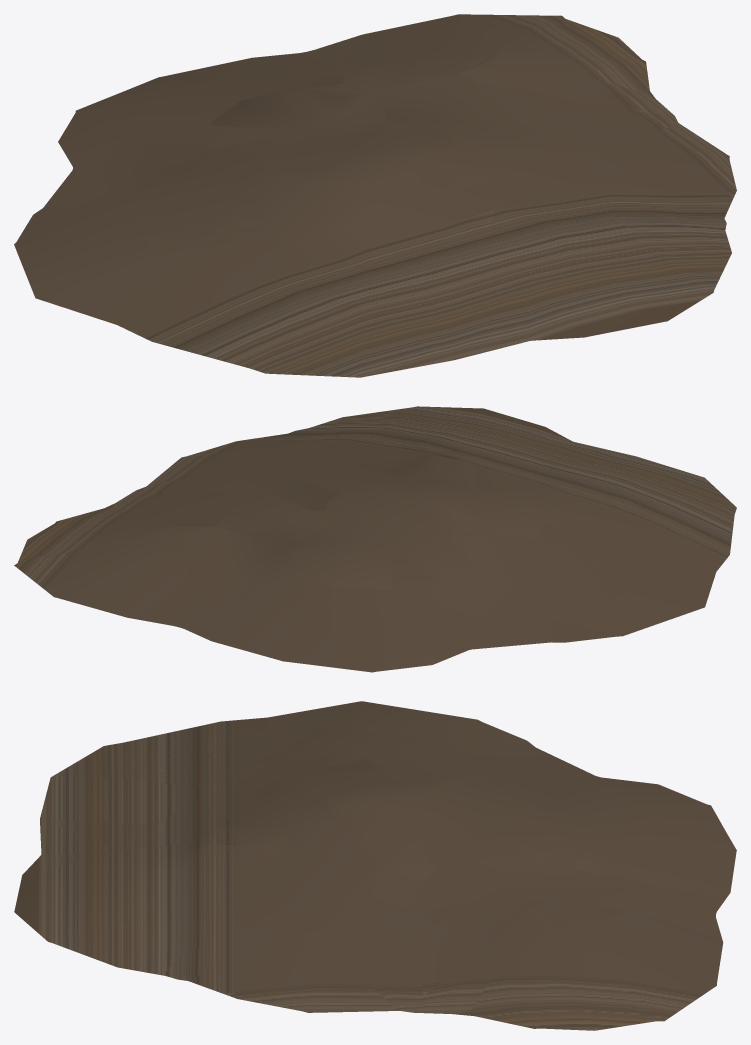
Rendered from ground_un_dlc2_w_mud01_03.gltf.
3 renders of one model, top to bottom at view 1: azimuth 30°, elevation 25°; view 2: azimuth 150°, elevation 25°; view 3: azimuth 270°, elevation 25°, orthographic. The views are drawn at different scales.
Parts seen in each view (by area): view 1: um_ground_un_dlc2_w_mud01_03_model_lod0Shape:ground_un_dlc2_, um_ground_un_dlc2_w_mud01_03_model_lod2Shape:ground_un_dlc2_, um_ground_un_dlc2_w_mud01_03_model_lod1Shape:ground_un_dlc2_; view 2: um_ground_un_dlc2_w_mud01_03_model_lod0Shape:ground_un_dlc2_, um_ground_un_dlc2_w_mud01_03_model_lod2Shape:ground_un_dlc2_, um_ground_un_dlc2_w_mud01_03_model_lod1Shape:ground_un_dlc2_; view 3: um_ground_un_dlc2_w_mud01_03_model_lod0Shape:ground_un_dlc2_, um_ground_un_dlc2_w_mud01_03_model_lod2Shape:ground_un_dlc2_, um_ground_un_dlc2_w_mud01_03_model_lod1Shape:ground_un_dlc2_.
Part boxes in pixels (x1,y1,x2,y2): um_ground_un_dlc2_w_mud01_03_model_lod0Shape:ground_un_dlc2_: (16,16,736,372); um_ground_un_dlc2_w_mud01_03_model_lod2Shape:ground_un_dlc2_: (43,14,726,377); um_ground_un_dlc2_w_mud01_03_model_lod1Shape:ground_un_dlc2_: (14,25,731,377); um_ground_un_dlc2_w_mud01_03_model_lod0Shape:ground_un_dlc2_: (18,407,734,671); um_ground_un_dlc2_w_mud01_03_model_lod2Shape:ground_un_dlc2_: (14,406,703,667); um_ground_un_dlc2_w_mud01_03_model_lod1Shape:ground_un_dlc2_: (40,417,736,672); um_ground_un_dlc2_w_mud01_03_model_lod0Shape:ground_un_dlc2_: (14,705,736,1030); um_ground_un_dlc2_w_mud01_03_model_lod2Shape:ground_un_dlc2_: (14,742,736,1021); um_ground_un_dlc2_w_mud01_03_model_lod1Shape:ground_un_dlc2_: (51,701,721,1028).
Size of what is drawn, in the model's own units: 22.71 by 1.73 by 21.06.
1 material, 1 textured.
